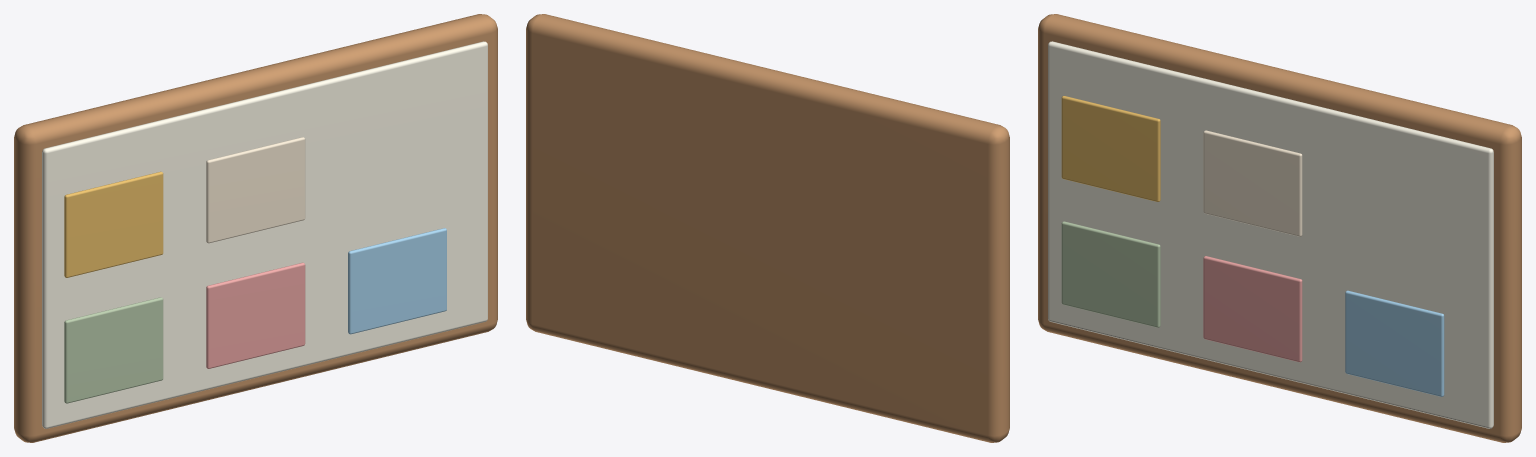
Rendered from officeGlassWall.glb.
3 renders of one model, left to right at view 1: azimuth 30°, elevation 25°; view 2: azimuth 150°, elevation 25°; view 3: azimuth 330°, elevation 25°, orthographic.
Visible parts, largest first — view 1: Board surface, Board frame, Note.004, Note, Note.003, Note.001, Note.002; view 2: Board frame; view 3: Board surface, Board frame, Note, Note.001, Note.002, Note.004, Note.003.
Boxes of the visible parts, x1,y1,x2,y2 form: Board surface: (42, 41, 487, 428); Board frame: (14, 14, 497, 442); Note.004: (206, 137, 305, 243); Note: (64, 297, 163, 403); Note.003: (64, 171, 163, 277); Note.001: (206, 262, 305, 368); Note.002: (348, 228, 446, 334); Board frame: (526, 14, 1009, 442); Board surface: (1048, 41, 1493, 428); Board frame: (1038, 14, 1521, 442); Note: (1061, 221, 1160, 327); Note.001: (1203, 256, 1302, 362); Note.002: (1345, 290, 1444, 396); Note.004: (1203, 130, 1302, 236); Note.003: (1061, 96, 1160, 201).
Size of the model in its own units: 1.75 by 1.1 by 0.1425.
